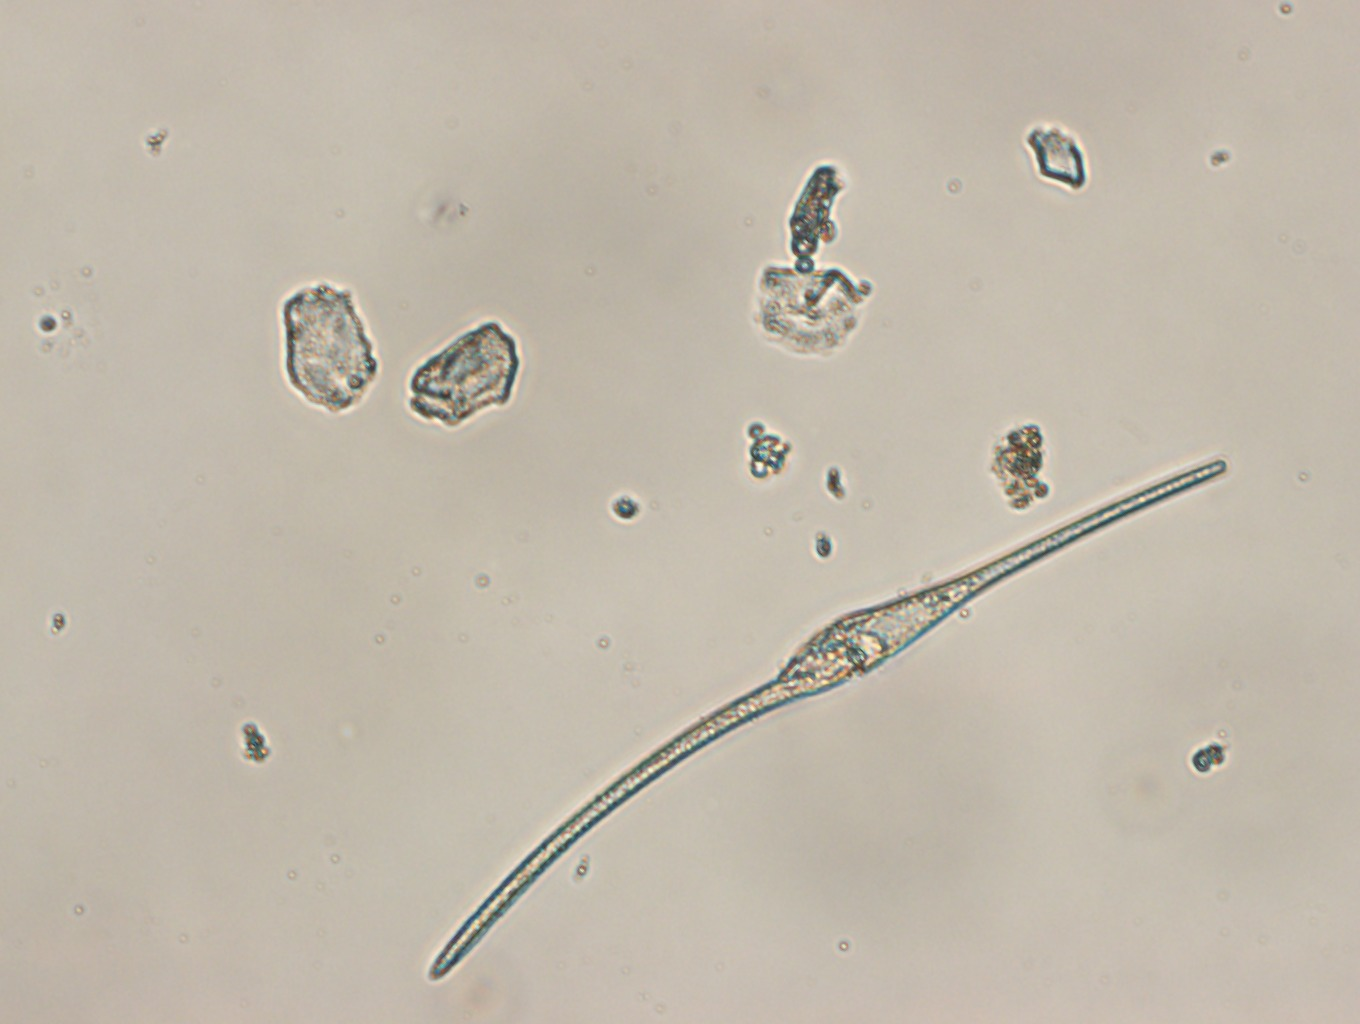ceratium fusus: (429, 455, 1229, 983)
